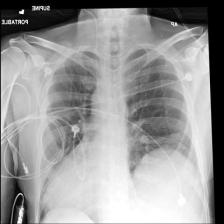normal: (39, 44, 200, 179)
